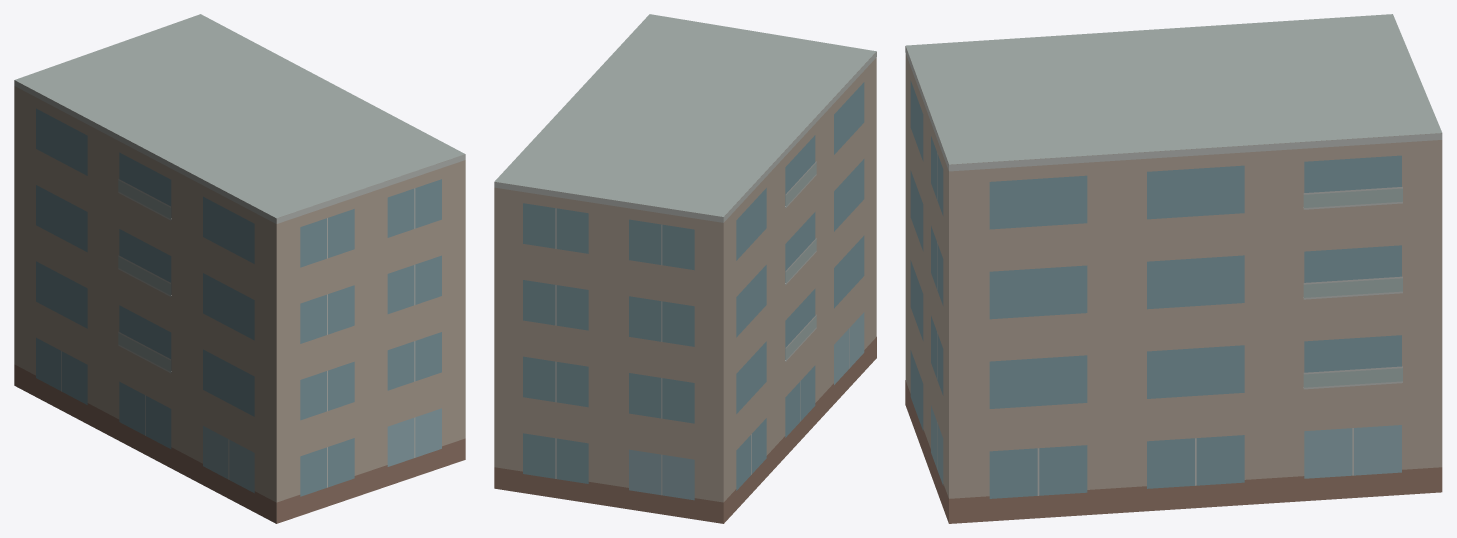
The model's file is survey-upis-32959037.glb.
The picture shows the model from 3 angles, left to right: view 1: azimuth 30°, elevation 25°; view 2: azimuth 150°, elevation 25°; view 3: azimuth 270°, elevation 25°; orthographic projection. The views are drawn at different scales.
Visible parts, largest first — view 1: survey-upis-32959037.tmp; view 2: survey-upis-32959037.tmp; view 3: survey-upis-32959037.tmp.
Part boxes in pixels (x1,y1,x2,y2): survey-upis-32959037.tmp: (14,14,465,523); survey-upis-32959037.tmp: (494,14,876,523); survey-upis-32959037.tmp: (905,14,1442,523).
Bounding box in the file's own units: 11.52 × 12.8 × 17.35.
